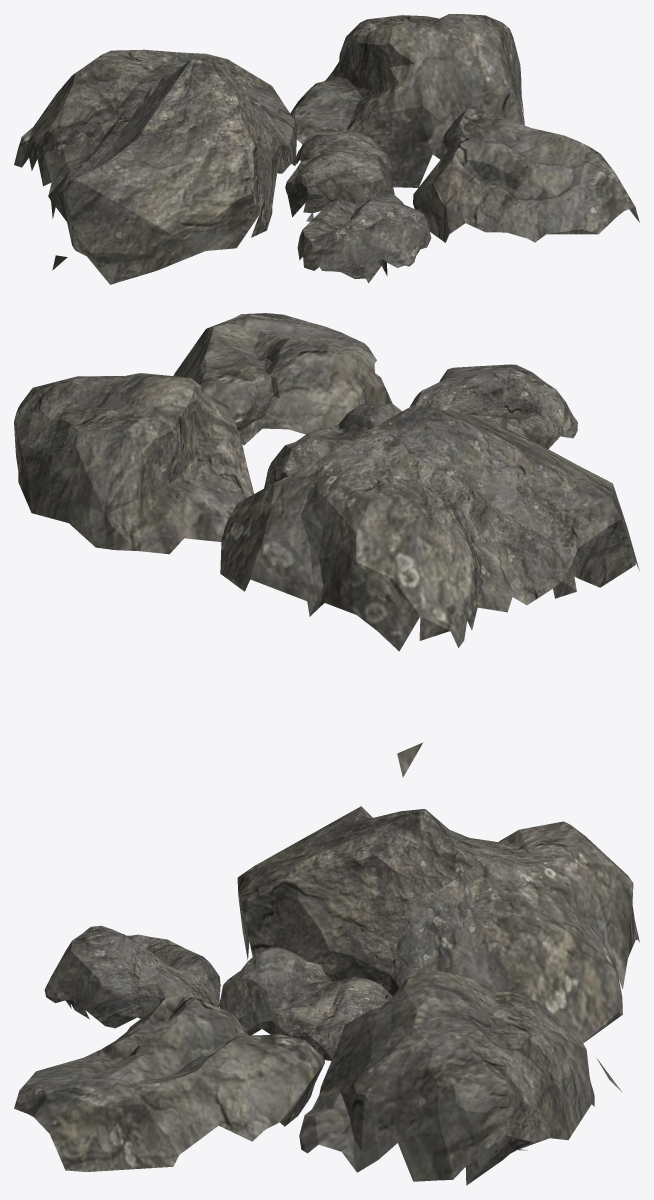
Rendered from Stone_01.fbx.
The picture shows the model from 3 angles, top to bottom: view 1: azimuth 30°, elevation 25°; view 2: azimuth 150°, elevation 25°; view 3: azimuth 270°, elevation 25°; orthographic projection. The views are drawn at different scales.
Parts seen in each view (by area): view 1: polySurface21; view 2: polySurface21; view 3: polySurface21.
Part boxes in pixels (box(x1,y1,x2,y2)): polySurface21: box(14, 14, 639, 284); polySurface21: box(14, 313, 639, 777); polySurface21: box(14, 806, 639, 1185).
Size of the model in its own units: 2.91 by 1.44 by 2.53.
